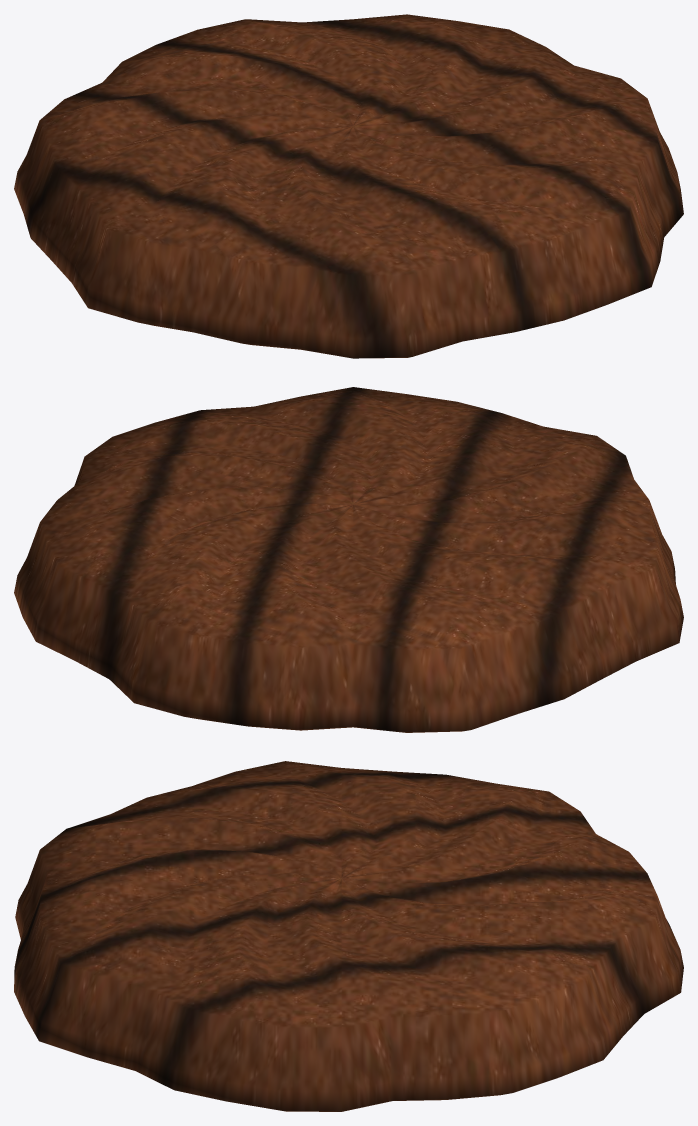
File: kr_patty.glb
3 views of the same model, one above another, from view 1: azimuth 30°, elevation 25°; view 2: azimuth 150°, elevation 25°; view 3: azimuth 270°, elevation 25° (orthographic).
Parts seen in each view (by area): view 1: kr_patty_f_ground_cooked; view 2: kr_patty_f_ground_cooked; view 3: kr_patty_f_ground_cooked.
Part boxes in pixels (x1,y1,x2,y2): kr_patty_f_ground_cooked: (14,14,683,358); kr_patty_f_ground_cooked: (14,387,683,732); kr_patty_f_ground_cooked: (14,761,683,1111).
Bounding box in the file's own units: 0.2088 × 0.0398 × 0.2042.
Materials: 1 (1 with a texture image).
